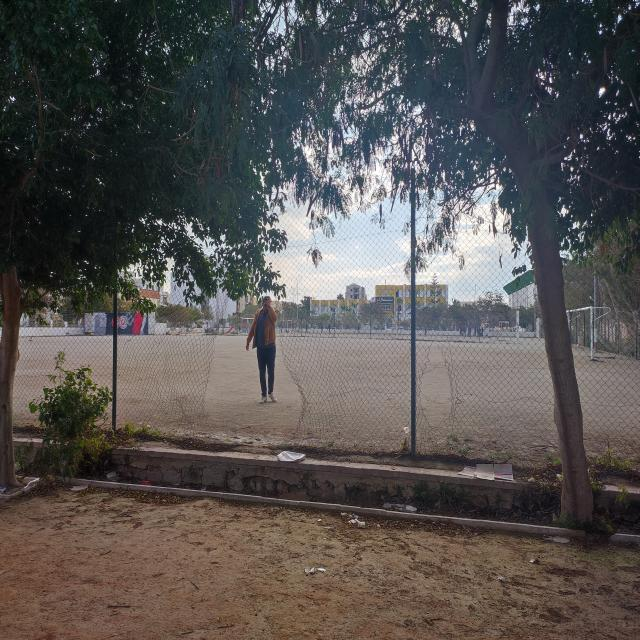fence line: (198, 298, 308, 444), (425, 364, 461, 436)
